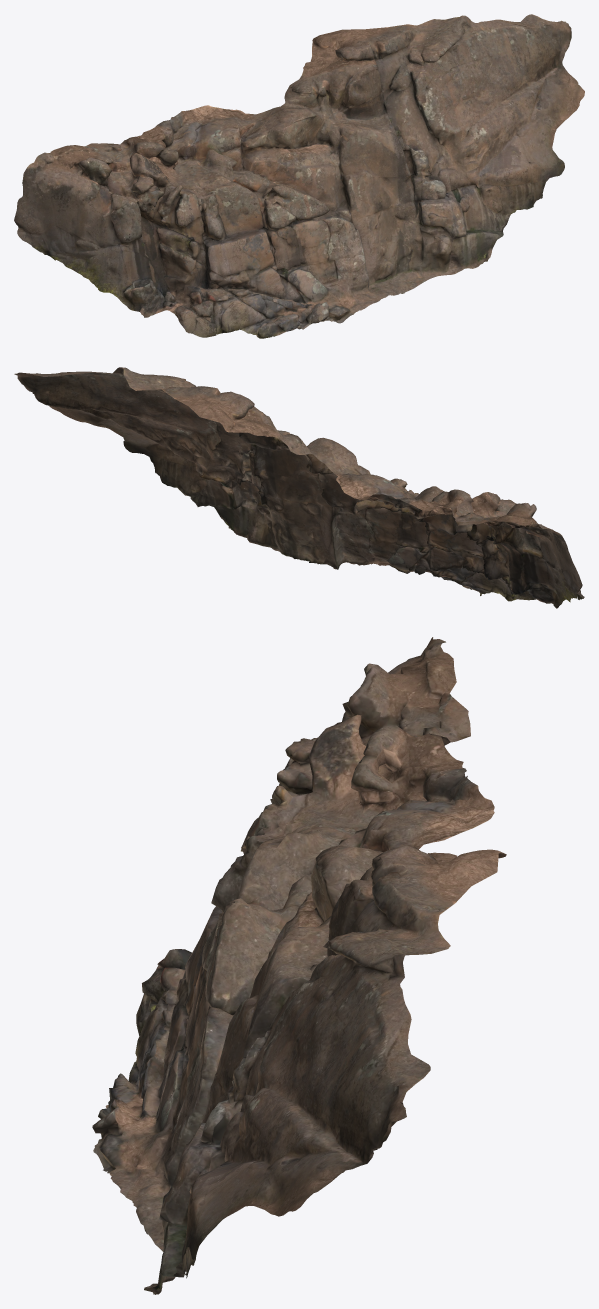
Rendered from cliff_a.glb.
3 renders of one model, top to bottom at view 1: azimuth 30°, elevation 25°; view 2: azimuth 150°, elevation 25°; view 3: azimuth 270°, elevation 25°, orthographic. The views are drawn at different scales.
Visible parts, largest first — view 1: drone_rock_02_10m; view 2: drone_rock_02_10m; view 3: drone_rock_02_10m.
Boxes of the visible parts, box(x1,y1,x2,y2) form: drone_rock_02_10m: box(14, 14, 584, 338); drone_rock_02_10m: box(14, 367, 584, 608); drone_rock_02_10m: box(92, 637, 506, 1294).
Bounding box in the file's own units: 20.23 × 7.19 × 6.6.
1 material, 1 textured.
